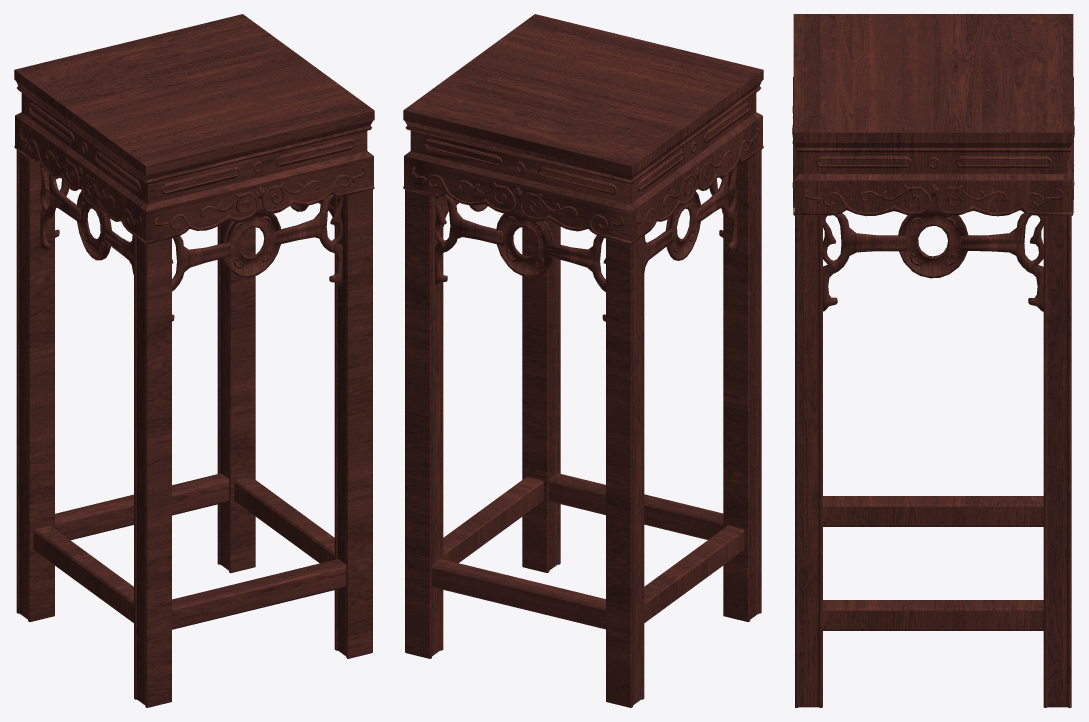
File: QD-清高桌子.fbx
3 views of the same model, side by side, from view 1: azimuth 30°, elevation 25°; view 2: azimuth 150°, elevation 25°; view 3: azimuth 270°, elevation 25° (orthographic). The views are drawn at different scales.
Parts seen in each view (by area): view 1: QD-清高桌子1; view 2: QD-清高桌子1; view 3: QD-清高桌子1.
Part boxes in pixels (x1,y1,x2,y2): QD-清高桌子1: [14, 14, 374, 707]; QD-清高桌子1: [403, 14, 763, 707]; QD-清高桌子1: [792, 14, 1074, 707].
Size of the model in its own units: 0.3994 by 0.3994 by 0.8991.
